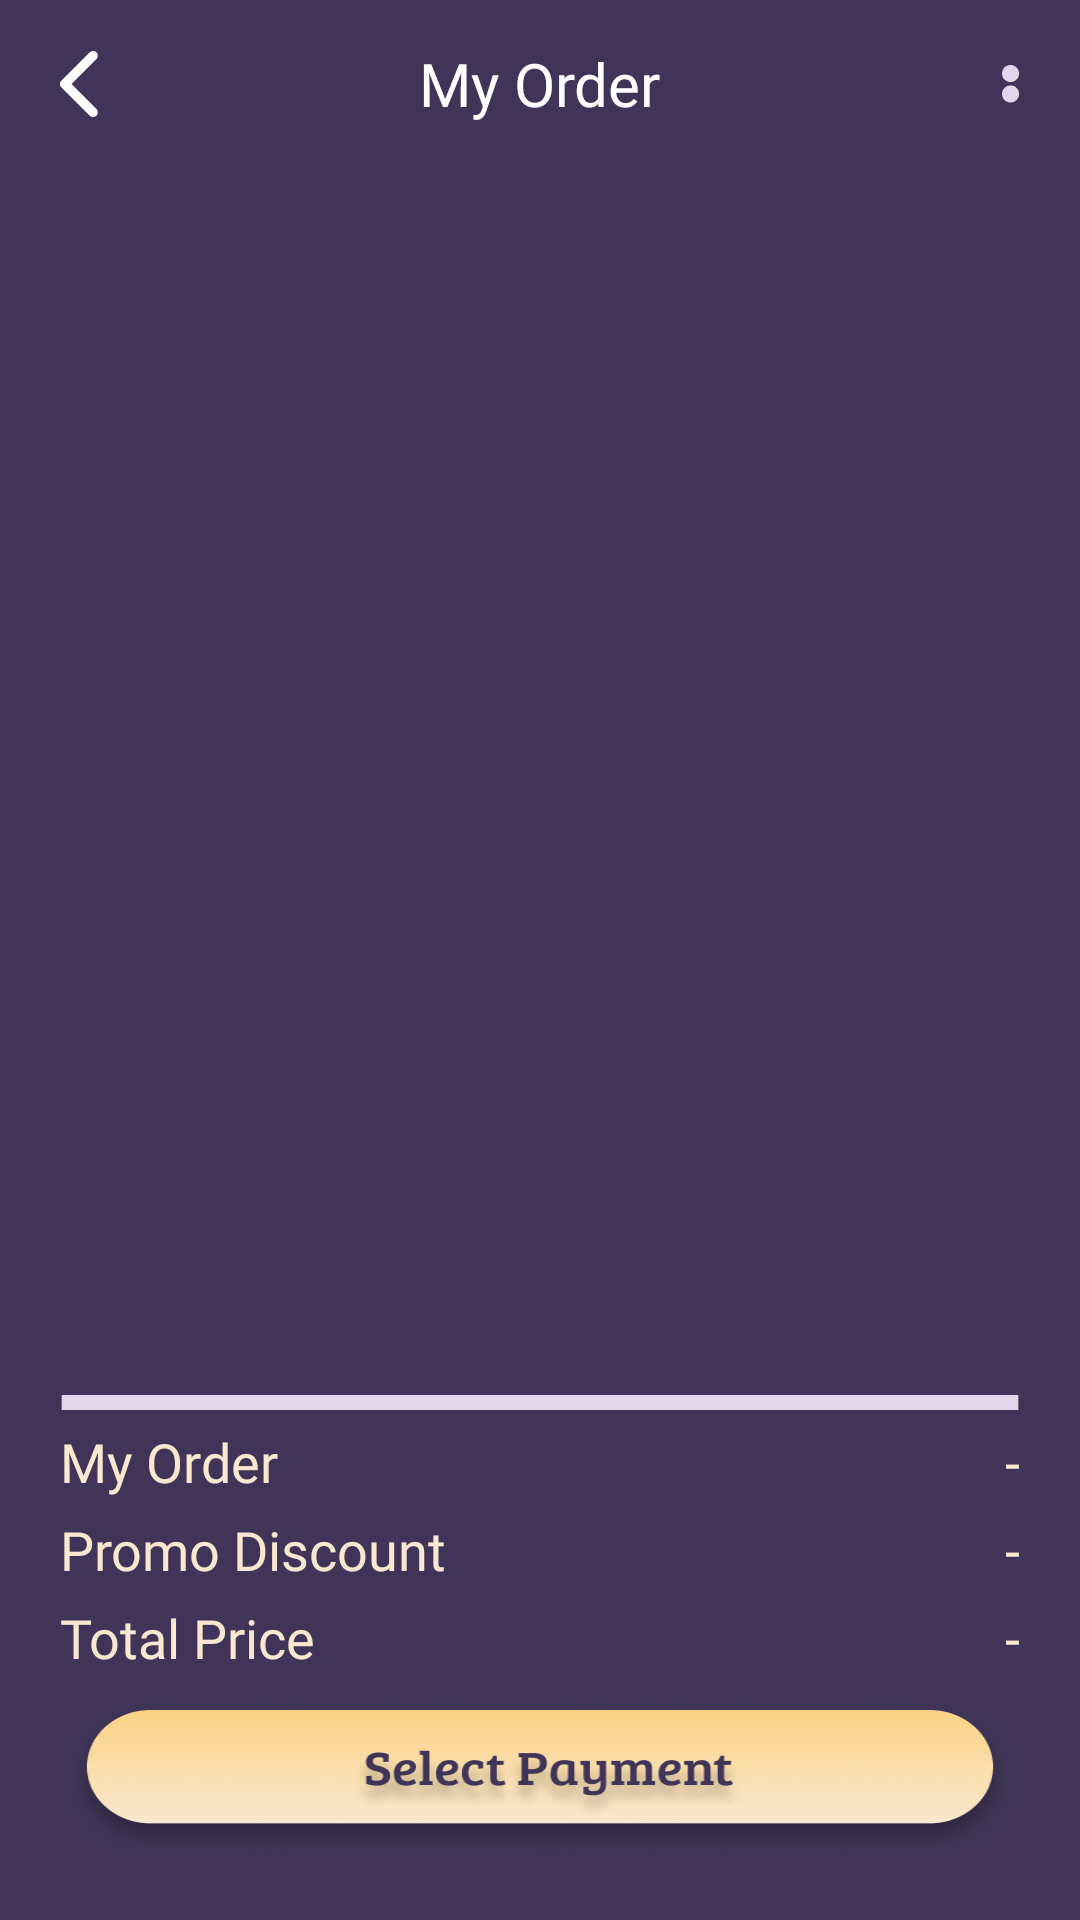

Where to tap for icons on this 1080*1920 app screen, as (x,y):
back: (79,84)
